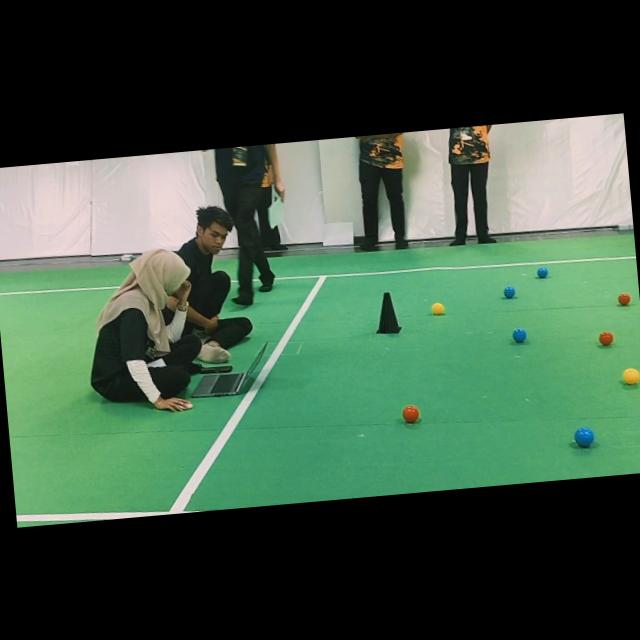ball: (574, 427, 593, 447), (402, 405, 419, 423), (622, 368, 640, 383), (512, 328, 527, 342), (599, 330, 613, 345), (503, 286, 515, 299), (432, 302, 444, 315), (536, 266, 548, 278)
